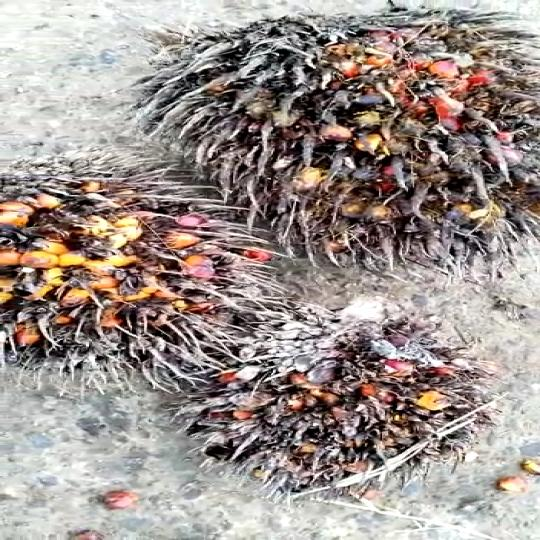terlalu masak: (119, 13, 540, 243), (194, 312, 486, 509), (0, 146, 252, 359), (172, 321, 496, 464)
